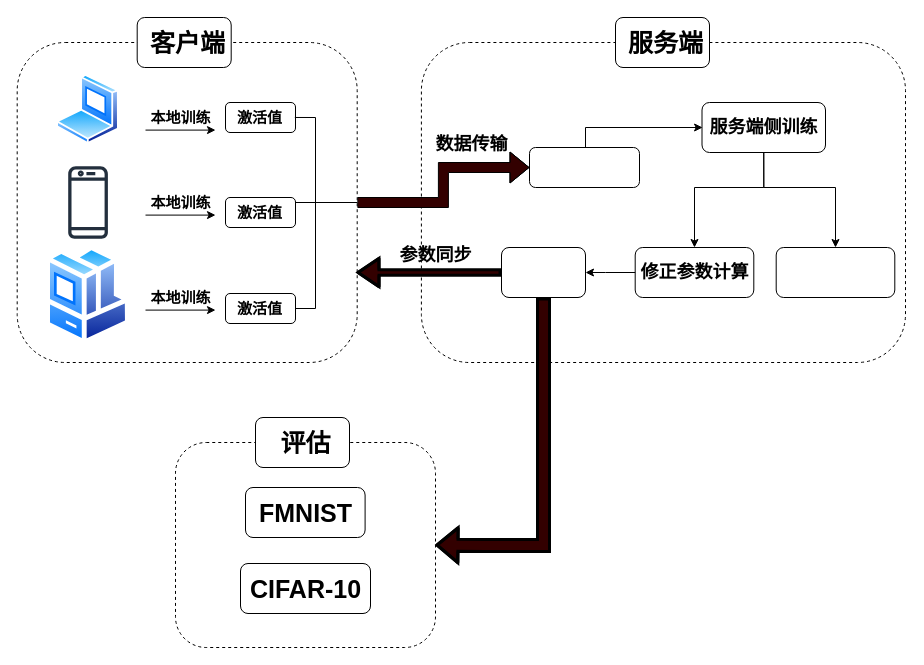
Image size: 924x665. Some labels were removed from this diagram. Each missing label, with the box of its shape:
历史参数更新: (775, 246, 895, 298)
心跳监测: (528, 146, 640, 188)
联邦聚合: (500, 246, 586, 298)
